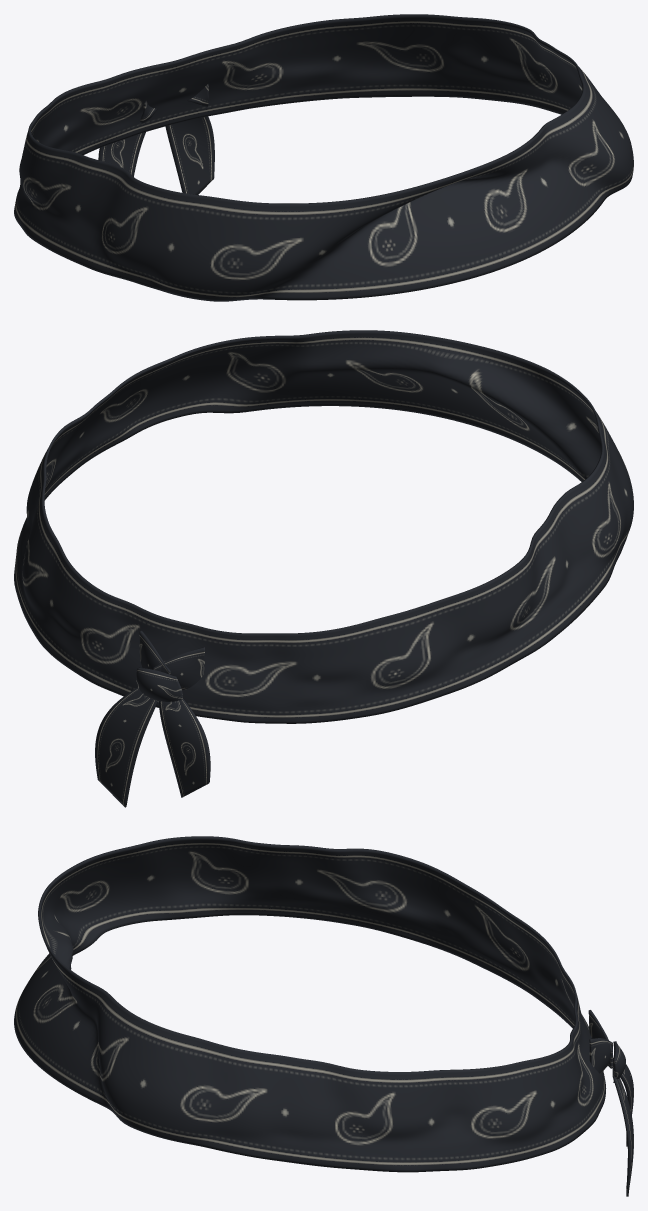
The model's file is Masculine-taper-bandana.glb.
The picture shows the model from 3 angles, top to bottom: view 1: azimuth 30°, elevation 25°; view 2: azimuth 150°, elevation 25°; view 3: azimuth 270°, elevation 25°; orthographic projection. The views are drawn at different scales.
Parts seen in each view (by area): view 1: Bandana / folded wrap, Bandana / hemmed tail 1, Bandana / hemmed tail -1; view 2: Bandana / folded wrap, Bandana / hemmed tail 1, Bandana / hemmed tail -1, Bandana / rounded knot fold, Bandana / gathered fold -1, Bandana / gathered fold 1; view 3: Bandana / folded wrap, Bandana / hemmed tail 1, Bandana / gathered fold 1.
Part boxes in pixels (x1,y1,x2,y2): Bandana / folded wrap: (14, 14, 633, 301); Bandana / hemmed tail 1: (165, 116, 214, 194); Bandana / hemmed tail -1: (98, 132, 145, 176); Bandana / folded wrap: (14, 330, 633, 723); Bandana / hemmed tail 1: (95, 687, 157, 807); Bandana / hemmed tail -1: (159, 699, 210, 797); Bandana / rounded knot fold: (136, 667, 182, 702); Bandana / gathered fold -1: (153, 647, 204, 689); Bandana / gathered fold 1: (139, 630, 170, 674); Bandana / folded wrap: (14, 836, 606, 1172); Bandana / hemmed tail 1: (612, 1066, 633, 1196); Bandana / gathered fold 1: (589, 1038, 612, 1074).
Bounding box in the file's own units: 0.725 × 0.3405 × 0.7575.
1 material, 1 textured.
